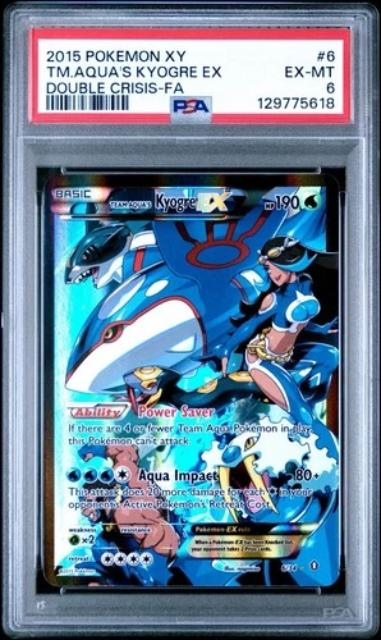Card: (35, 170, 344, 591)
Name: (105, 187, 239, 214)
